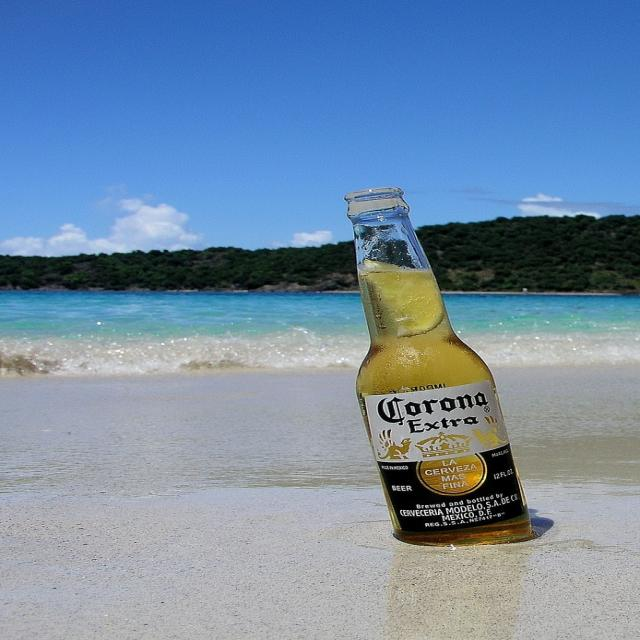corona: (366, 380, 527, 533)
